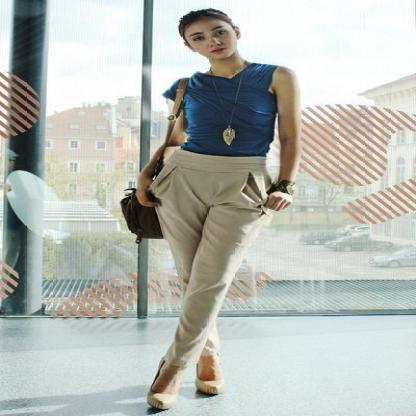bag: (121, 192, 162, 242)
pants: (148, 145, 274, 374)
shirt: (163, 61, 279, 156)
shoe: (147, 387, 217, 414)
